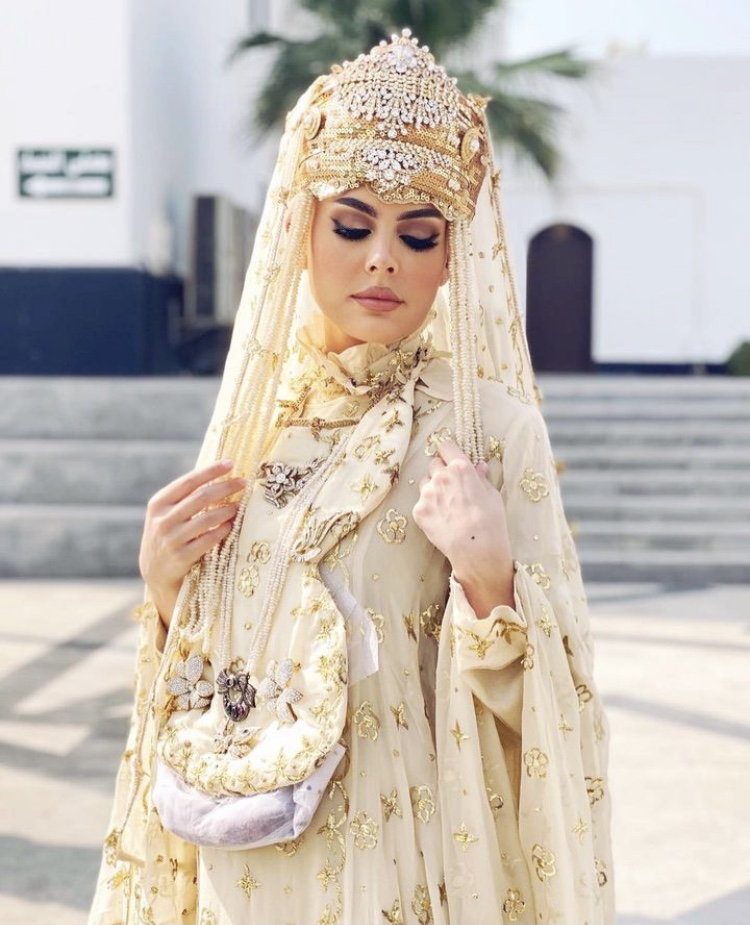Saudi_Founding_Day: (83, 24, 625, 925)
